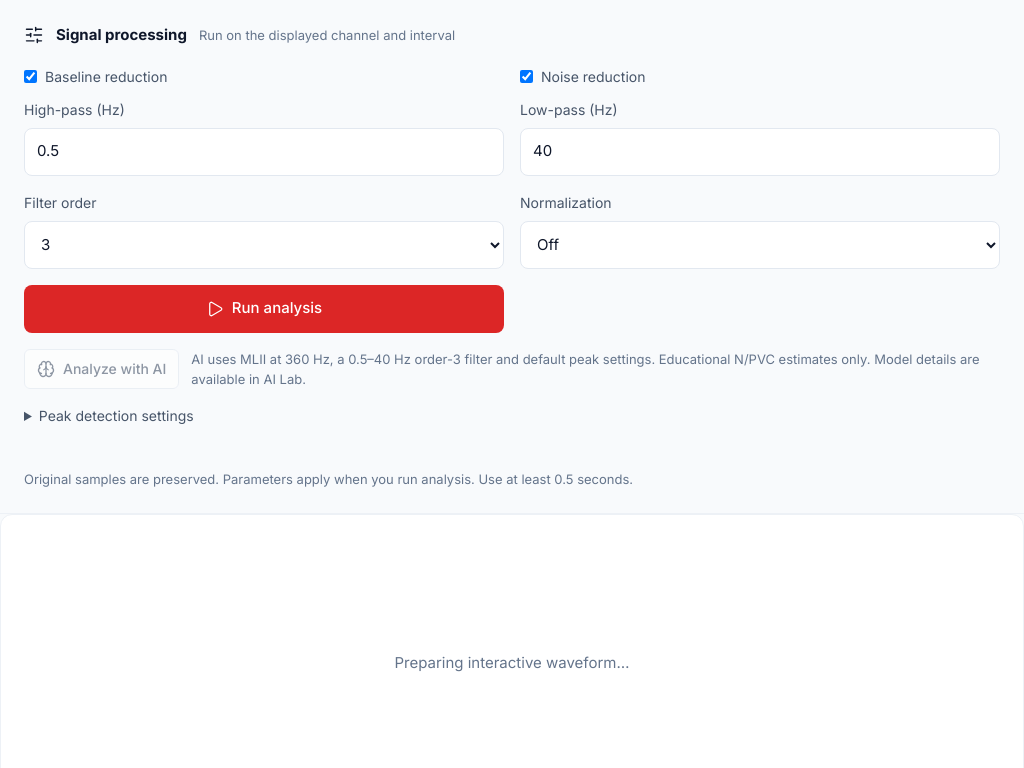
analysis is explicit, submits selected parameters, and displays actual returned statistics
This screenshot has width=1024, height=768.
Replace the text in the number field labelled "High-pass (Hz)" with "0.8" at (264, 152), box x1=24 y1=128 x2=504 y2=176
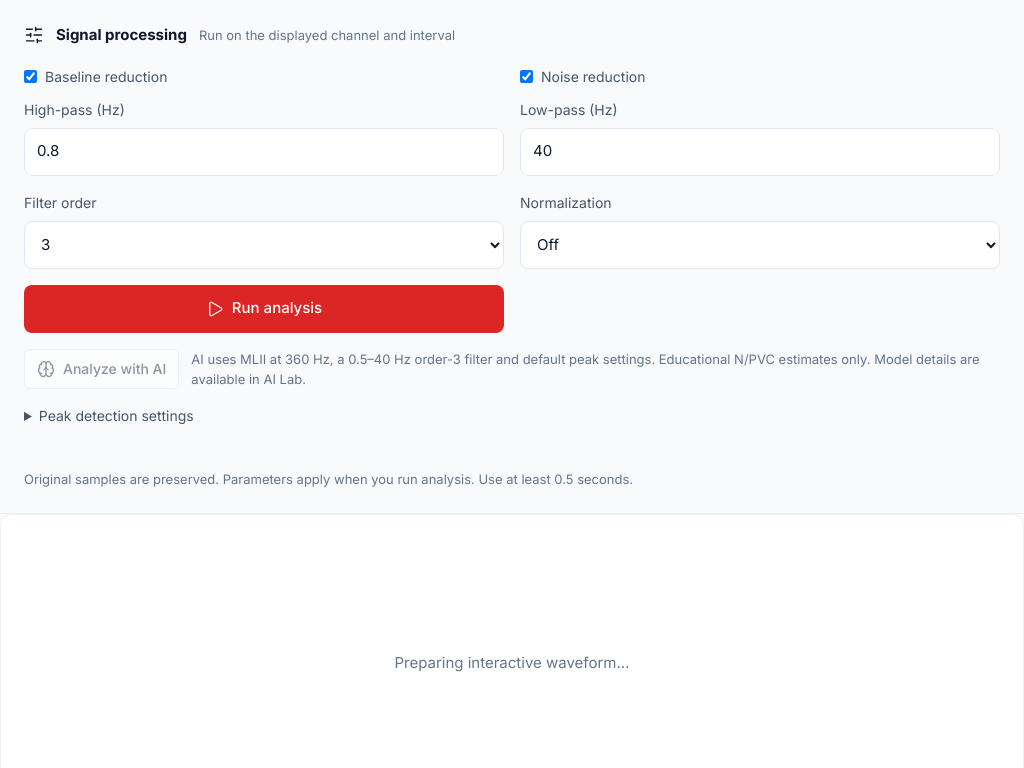
Click the button "Run analysis" at (264, 308), box x1=24 y1=284 x2=504 y2=332
(page scrolled)
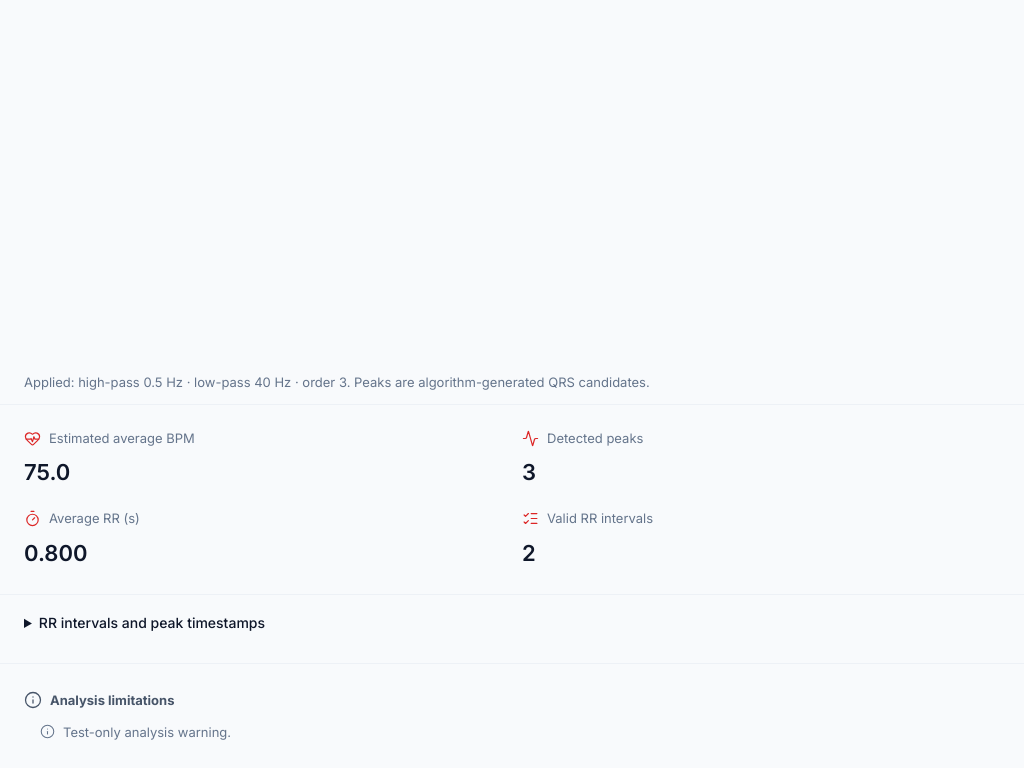
Check: the text "75.0" is shown, box x1=24 y1=459 x2=70 y2=485
Check: the text "0.800" is shown, box x1=24 y1=540 x2=88 y2=566
